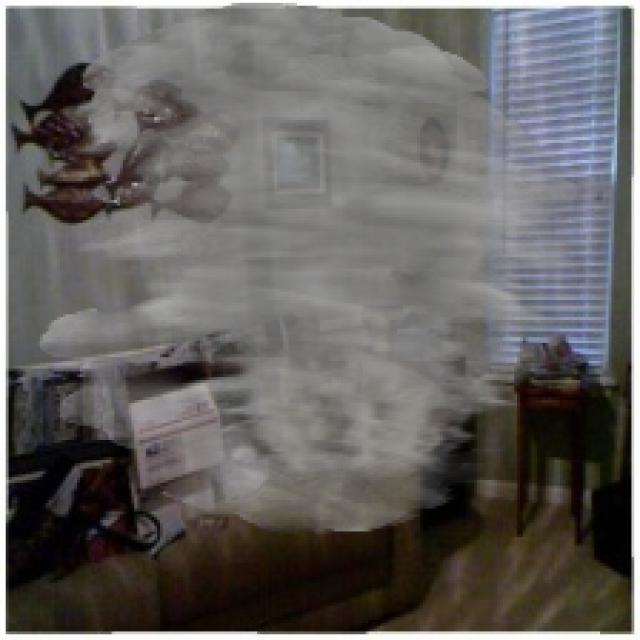smoke: (37, 3, 592, 534)
